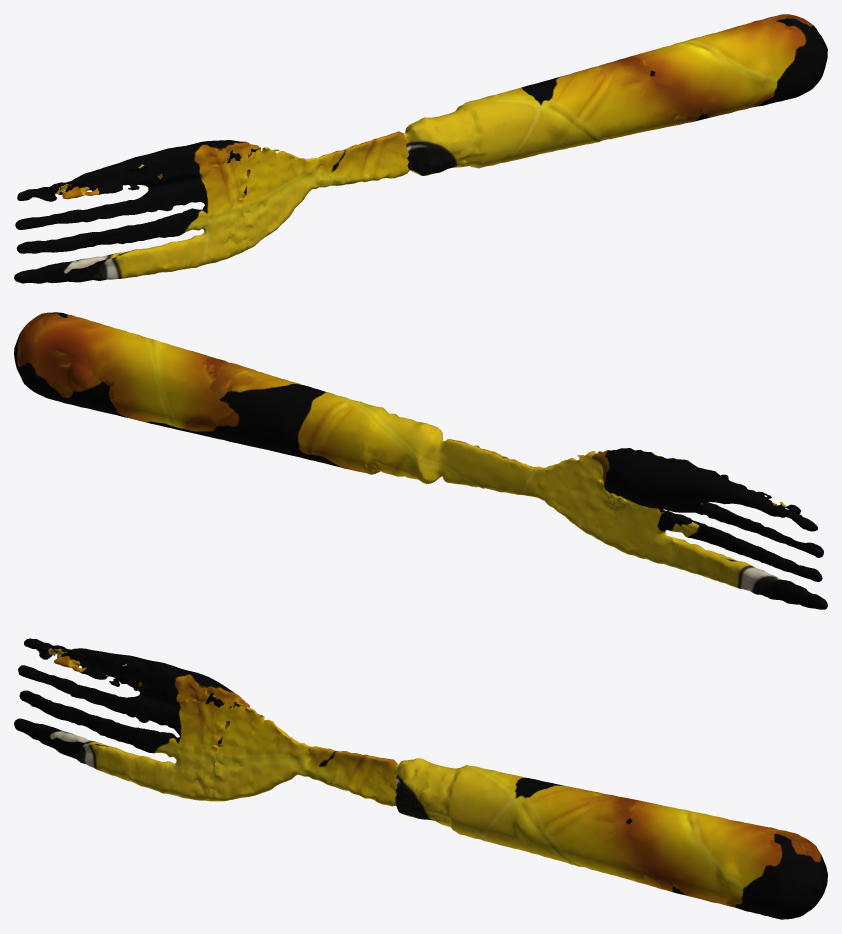
3 views of the same model, one above another, from view 1: azimuth 30°, elevation 25°; view 2: azimuth 150°, elevation 25°; view 3: azimuth 330°, elevation 25° (orthographic). The views are drawn at different scales.
Size of the model in its own units: 0.1976 by 0.0271 by 0.0159.
